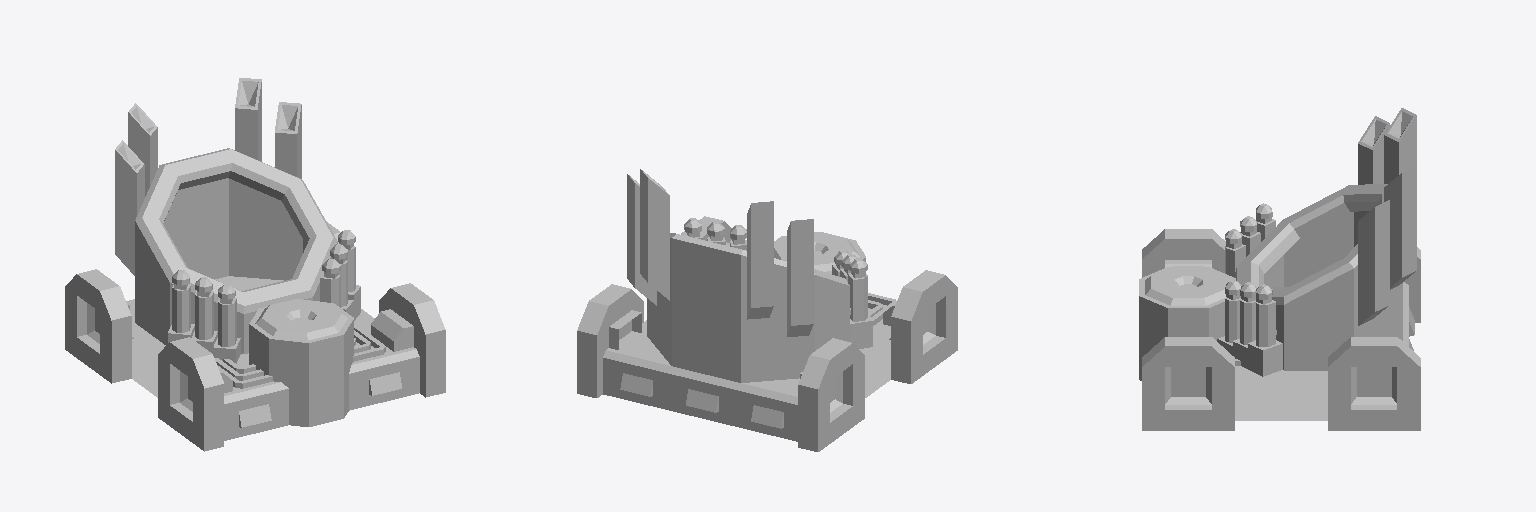
The model's file is grand_centrifuge_body.obj.
3 views of the same model, side by side, from view 1: azimuth 30°, elevation 25°; view 2: azimuth 150°, elevation 25°; view 3: azimuth 270°, elevation 25° (orthographic).
Parts seen in each view (by area): view 1: GRAND_CENTRIFUGE_Cube.048; view 2: GRAND_CENTRIFUGE_Cube.048; view 3: GRAND_CENTRIFUGE_Cube.048.
Part boxes in pixels (left/top/right/bottom): GRAND_CENTRIFUGE_Cube.048: left=65, top=78, right=445, bottom=451; GRAND_CENTRIFUGE_Cube.048: left=577, top=169, right=957, bottom=451; GRAND_CENTRIFUGE_Cube.048: left=1139, top=108, right=1420, bottom=430.
Size of the model in its own units: 3 by 2.75 by 3.03.